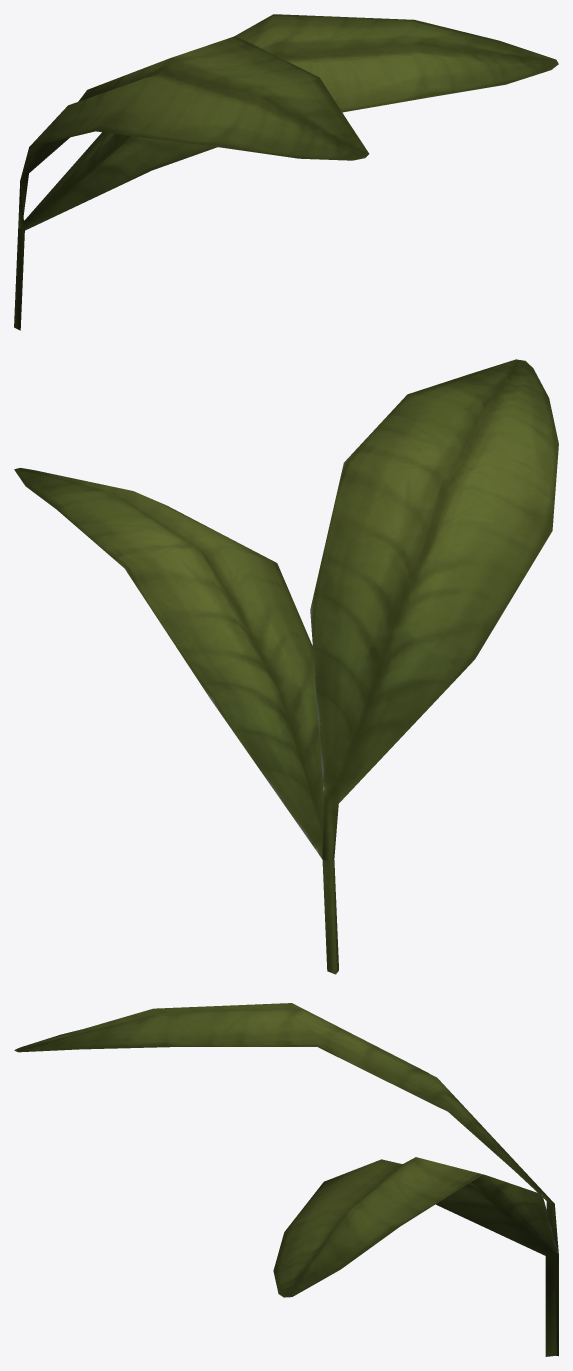
Rendered from 001KusaM02.fbx.
3 views of the same model, one above another, from view 1: azimuth 30°, elevation 25°; view 2: azimuth 150°, elevation 25°; view 3: azimuth 270°, elevation 25° (orthographic). The views are drawn at different scales.
Parts seen in each view (by area): view 1: KusaM02; view 2: KusaM02; view 3: KusaM02.
Part boxes in pixels (<box>): KusaM02: <box>14,14,558,330</box>; KusaM02: <box>14,359,558,974</box>; KusaM02: <box>14,1003,558,1356</box>.
Bounding box in the file's own units: 74.89 × 54.57 × 72.03.
Materials: 1 (1 with a texture image).
